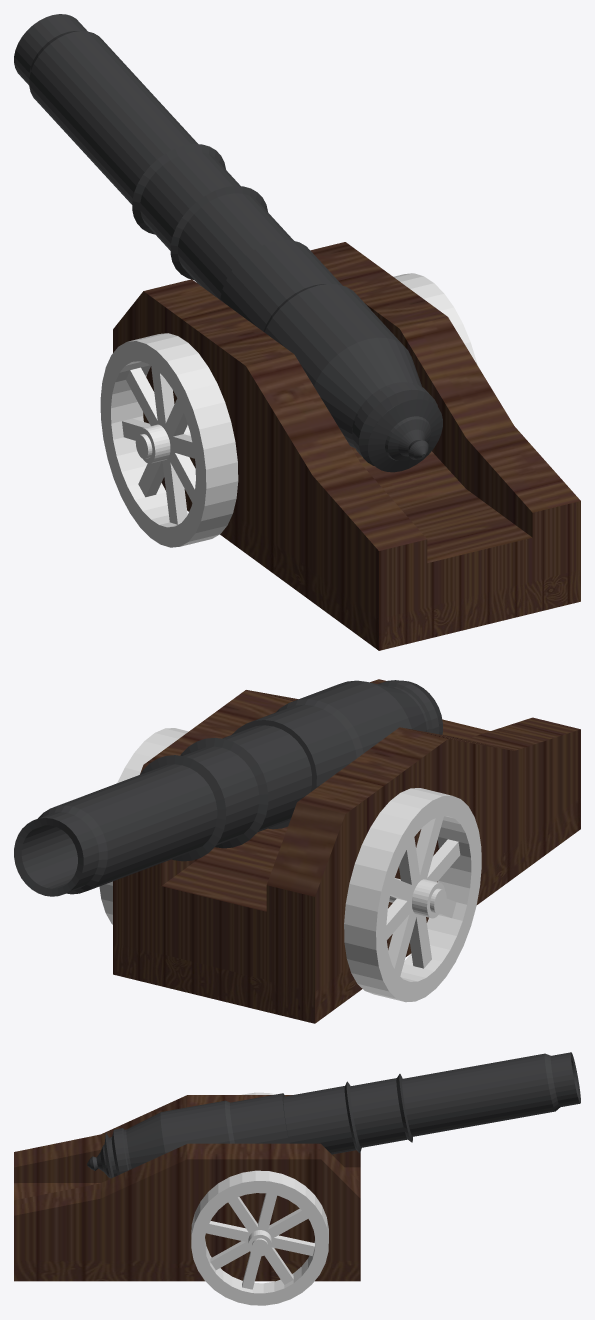
Rendered from Cannon 1.fbx.
3 views of the same model, one above another, from view 1: azimuth 30°, elevation 25°; view 2: azimuth 150°, elevation 25°; view 3: azimuth 270°, elevation 25° (orthographic). The views are drawn at different scales.
Parts seen in each view (by area): view 1: Chassis, Barrel, WheelL, WheelL.001; view 2: Chassis, Barrel, WheelL, WheelL.001, Cylinder.003; view 3: Chassis, Barrel, WheelL.001, Cylinder.001.
Part boxes in pixels (left/top/right/bottom): Chassis: left=113, top=242, right=580, bottom=650; Barrel: left=14, top=14, right=442, bottom=472; WheelL: left=100, top=333, right=238, bottom=547; WheelL.001: left=393, top=273, right=477, bottom=364; Chassis: left=113, top=679, right=580, bottom=1023; Barrel: left=14, top=680, right=442, bottom=896; WheelL: left=344, top=788, right=481, bottom=1002; WheelL.001: left=99, top=728, right=188, bottom=924; Cylinder.003: left=412, top=879, right=444, bottom=918; Chassis: left=14, top=1095, right=360, bottom=1281; Barrel: left=87, top=1052, right=580, bottom=1178; WheelL.001: left=191, top=1170, right=328, bottom=1305; Cylinder.001: left=248, top=1230, right=271, bottom=1256.
Bounding box in the file's own units: 336 × 339 × 843.
